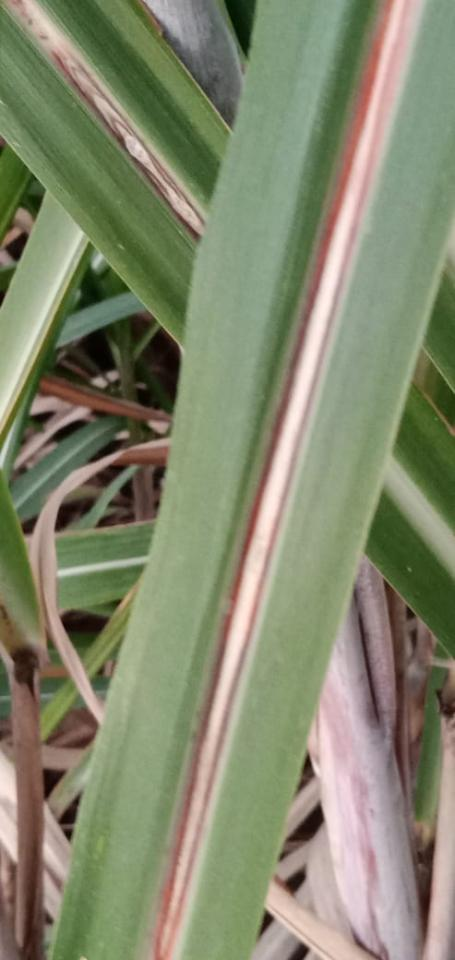RedRot: (152, 0, 411, 959), (51, 43, 206, 247), (7, 0, 50, 42)
